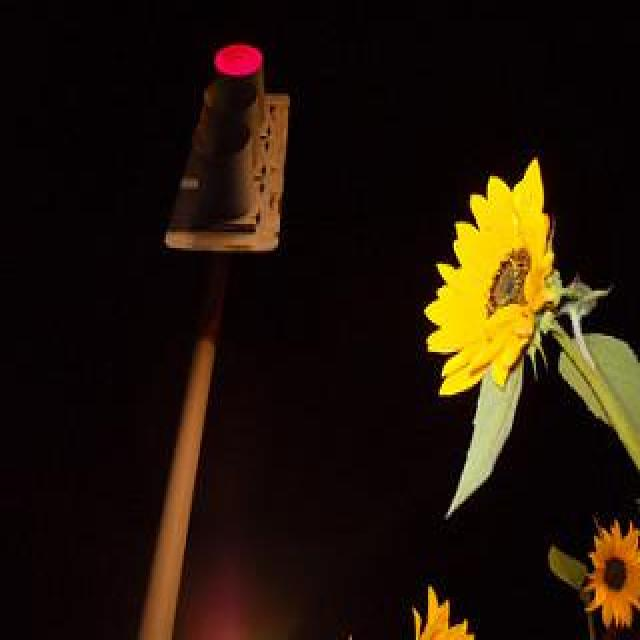sunflower: (425, 156, 557, 396), (581, 522, 640, 628), (412, 587, 478, 640)
